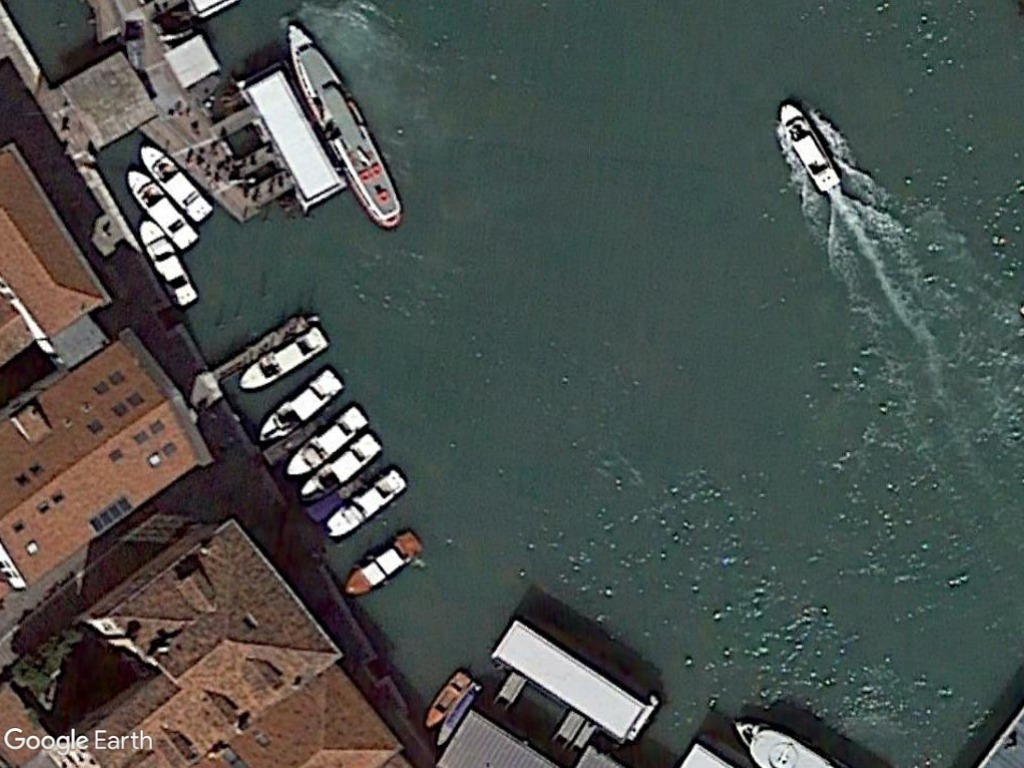boat: (284, 15, 409, 231), (254, 366, 349, 444), (236, 315, 330, 393), (319, 462, 409, 540), (282, 401, 369, 481), (297, 427, 385, 506), (777, 99, 846, 197), (123, 166, 200, 252), (129, 221, 204, 308), (342, 525, 426, 602), (138, 142, 215, 226), (420, 668, 476, 731)
